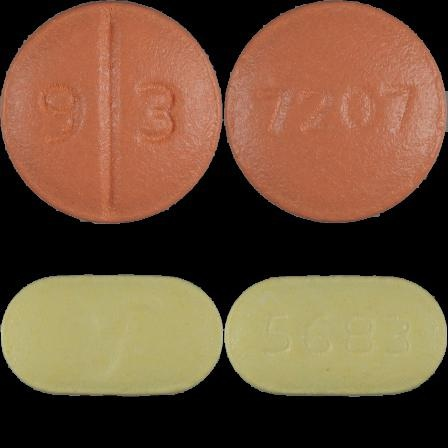63187-207: (0, 0, 224, 224)
